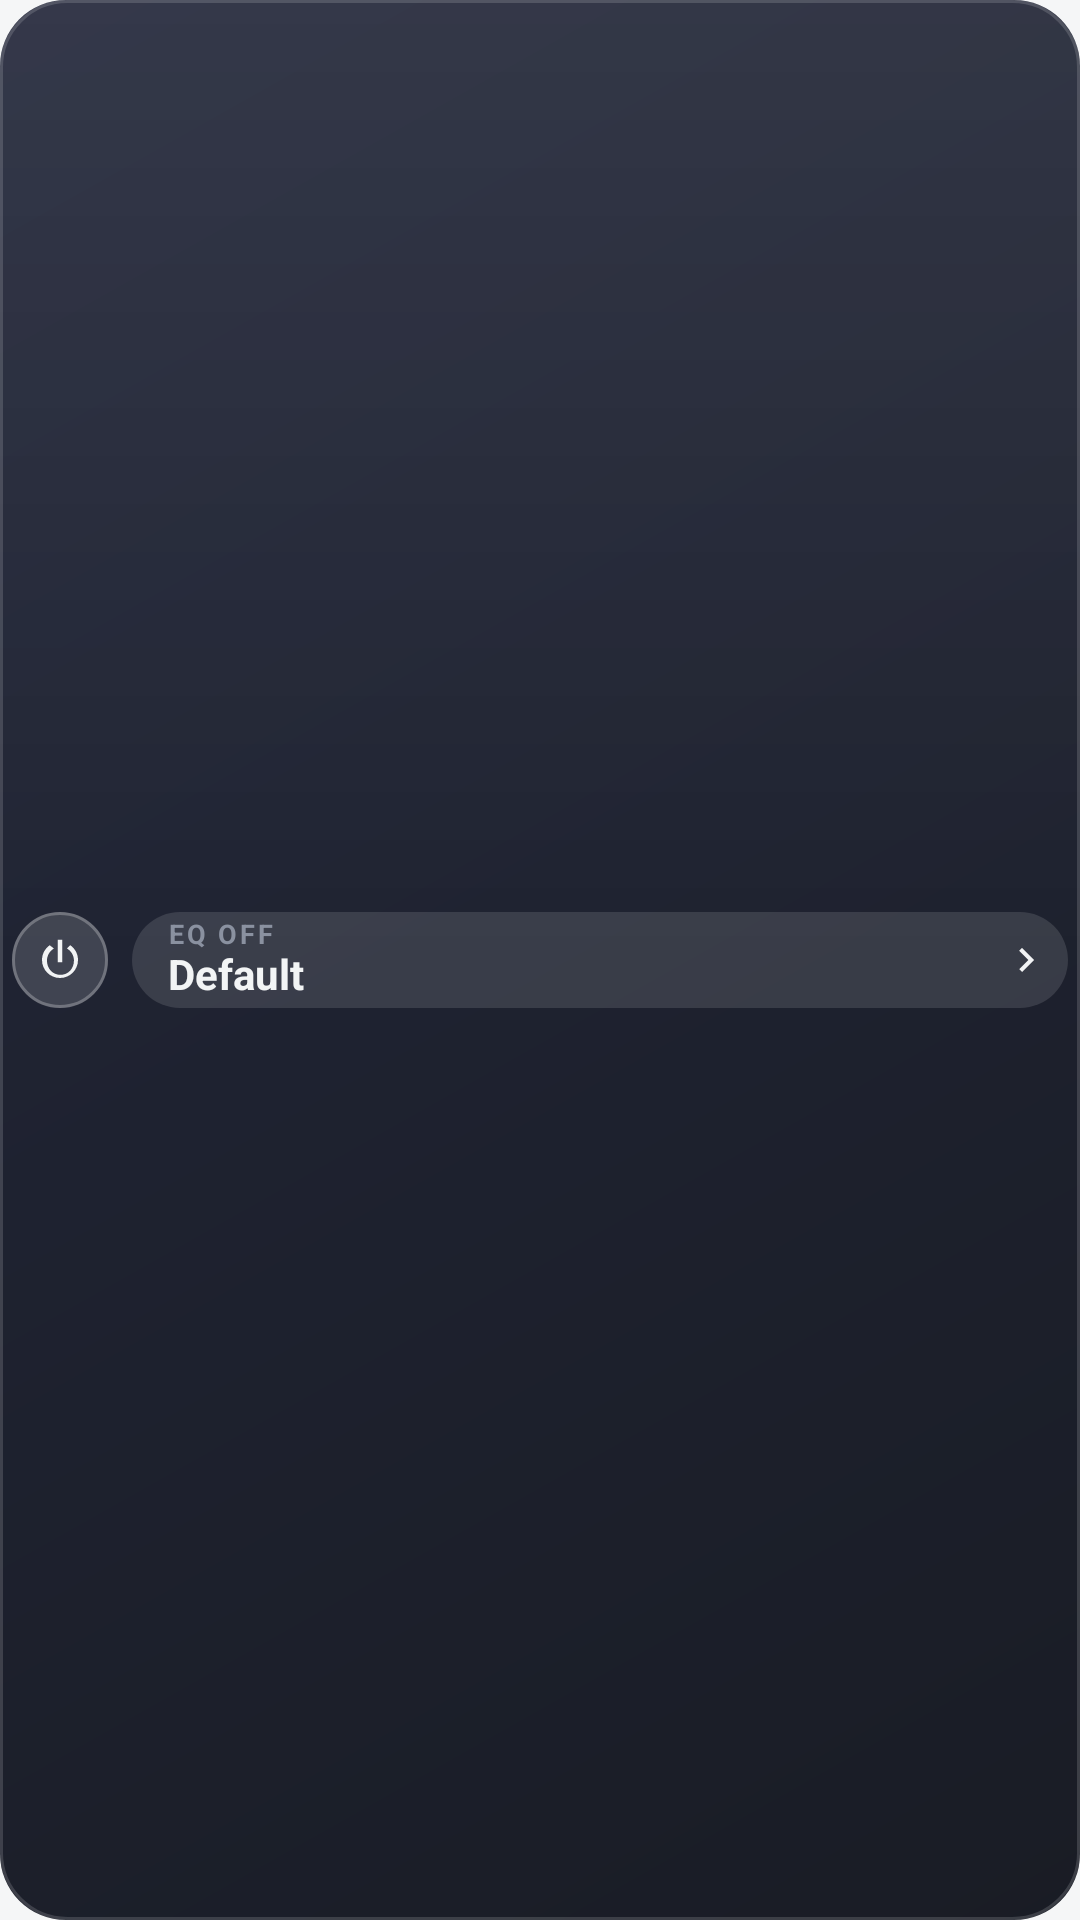

Screen size 1080px x 1920px. Icon name, then its box in pixels as bbox(x1, y1, x2, y2):
Enable audio effects: bbox(12, 912, 108, 1008)
widget next: bbox(1019, 948, 1034, 972)
